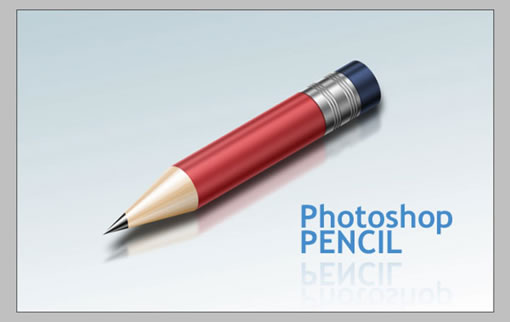pen_tip: (92, 161, 217, 242)
